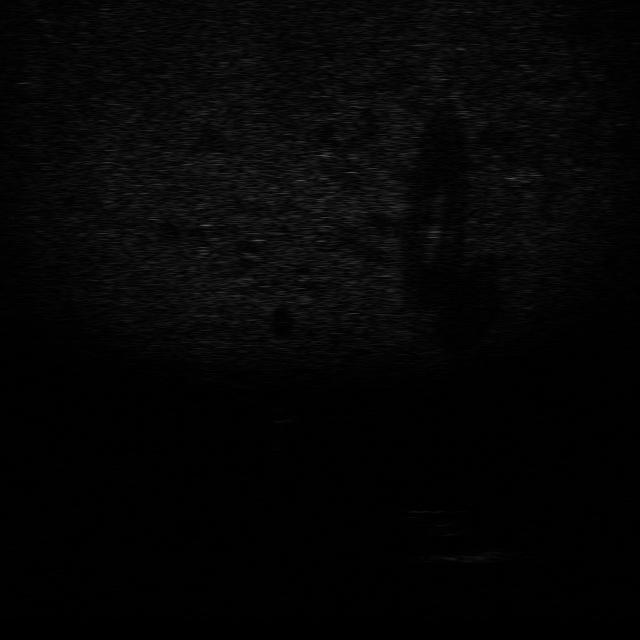ball: (265, 404, 301, 426)
metal bucket: (429, 545, 510, 565)
tyre: (398, 507, 478, 540)
